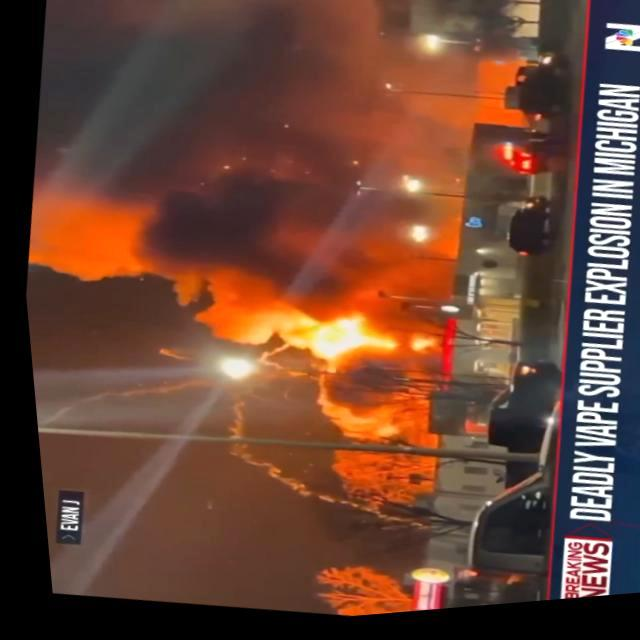fire: (92, 140, 512, 484)
